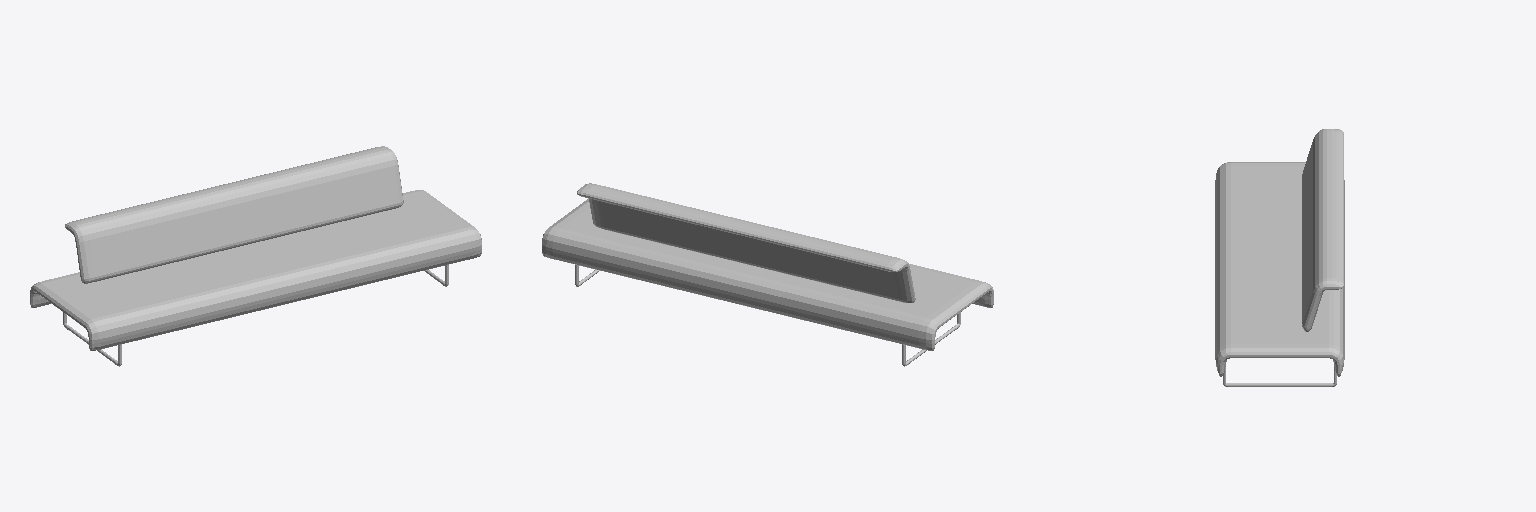
File: sofa.obj
3 views of the same model, side by side, from view 1: azimuth 30°, elevation 25°; view 2: azimuth 150°, elevation 25°; view 3: azimuth 270°, elevation 25° (orthographic).
Parts seen in each view (by area): view 1: CLO_300_SC.lwo; view 2: CLO_300_SC.lwo; view 3: CLO_300_SC.lwo.
Boxes of the visible parts, box(x1,y1,x2,y2) form: CLO_300_SC.lwo: box(30, 146, 481, 366); CLO_300_SC.lwo: box(542, 183, 993, 366); CLO_300_SC.lwo: box(1215, 129, 1344, 386).
Size of the model in its own units: 3 by 0.7518 by 0.8561.